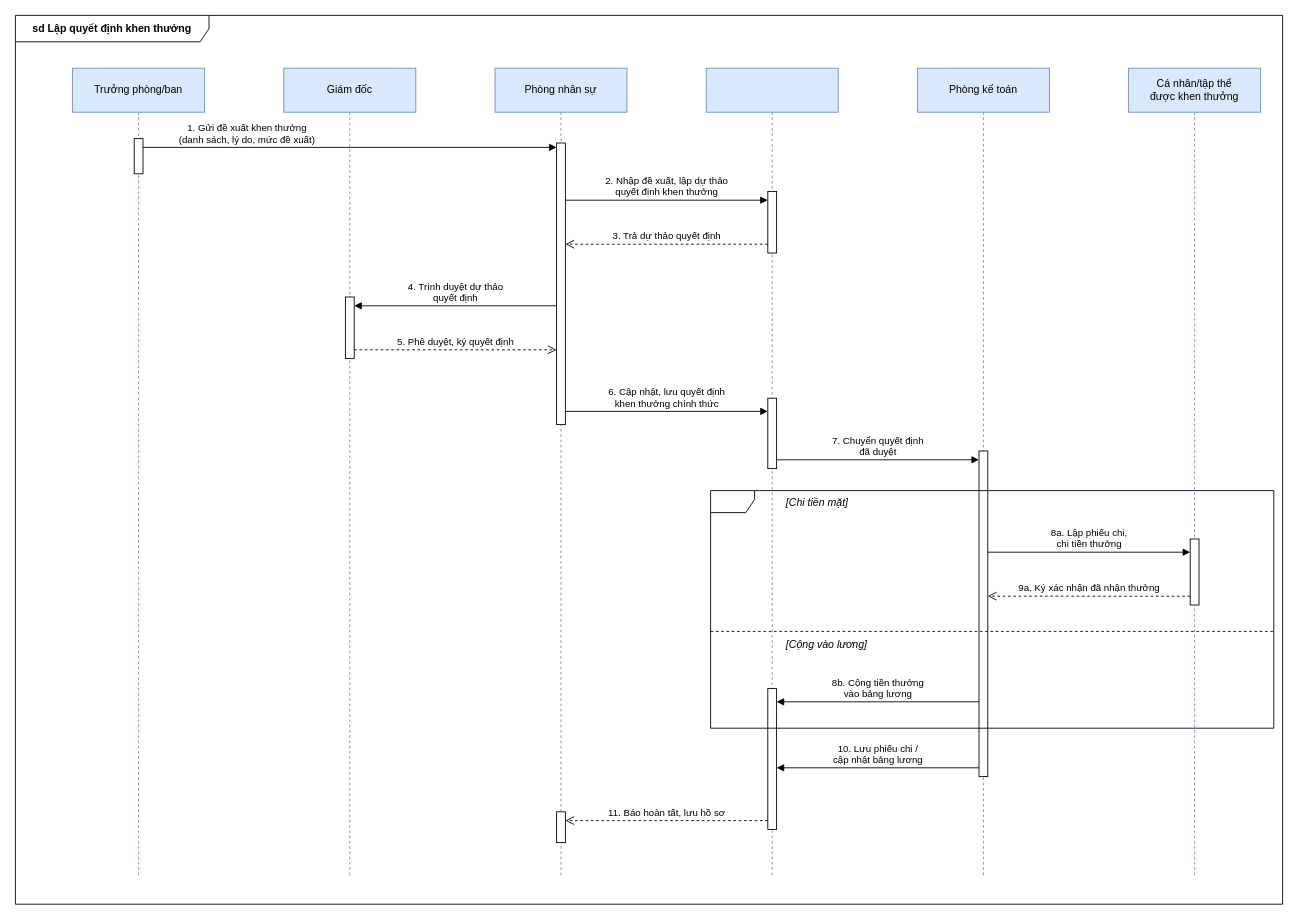
The diagram is 1298 pixels wide and 920 high, and some of its shapes have lost their labels. The shapes that lost their labels are listed below. From the top down, each one's box as (x1, y1, x2, y2) in pixels, then its label:
(705, 67, 838, 878): Hệ thống QLNS
(710, 490, 1274, 728): alt
